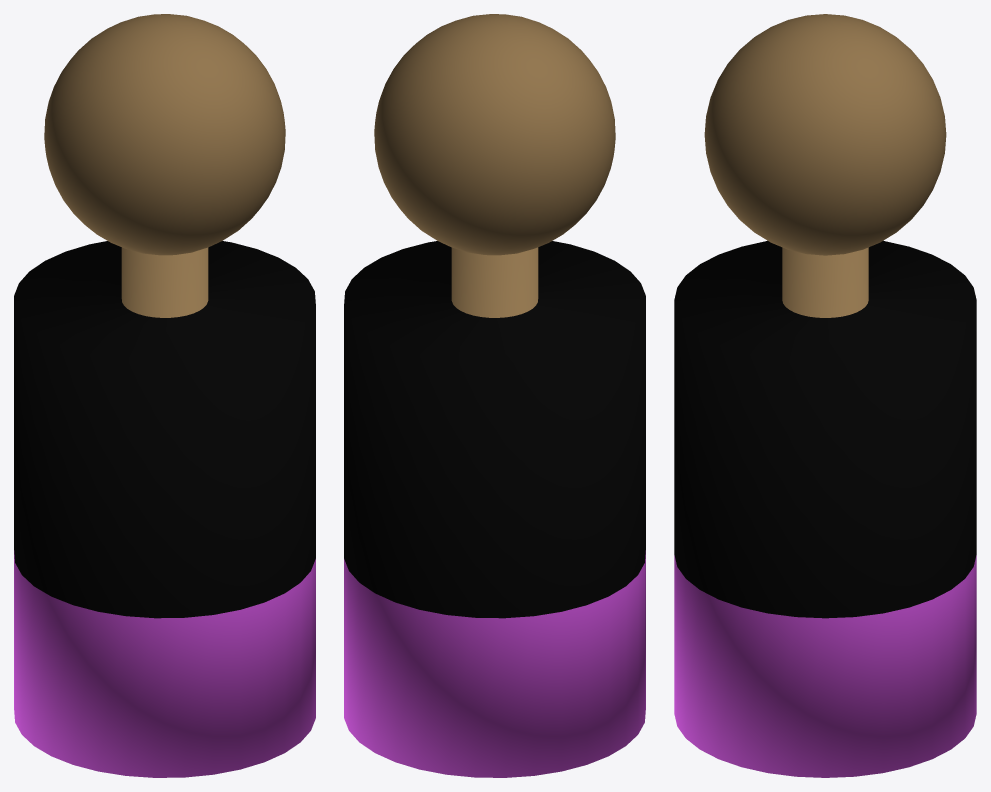
File: Character_01.fbx
3 views of the same model, side by side, from view 1: azimuth 30°, elevation 25°; view 2: azimuth 150°, elevation 25°; view 3: azimuth 270°, elevation 25° (orthographic).
Visible parts, largest first — view 1: Circle.009, Icosphere.009; view 2: Circle.009, Icosphere.009; view 3: Circle.009, Icosphere.009.
Boxes of the visible parts, x1,y1,x2,y2 form: Circle.009: (14, 241, 315, 777); Icosphere.009: (44, 14, 285, 255); Circle.009: (344, 241, 645, 777); Icosphere.009: (374, 14, 615, 255); Circle.009: (674, 240, 976, 777); Icosphere.009: (704, 14, 946, 255).
Size of the model in its own units: 200 by 503 by 200.
